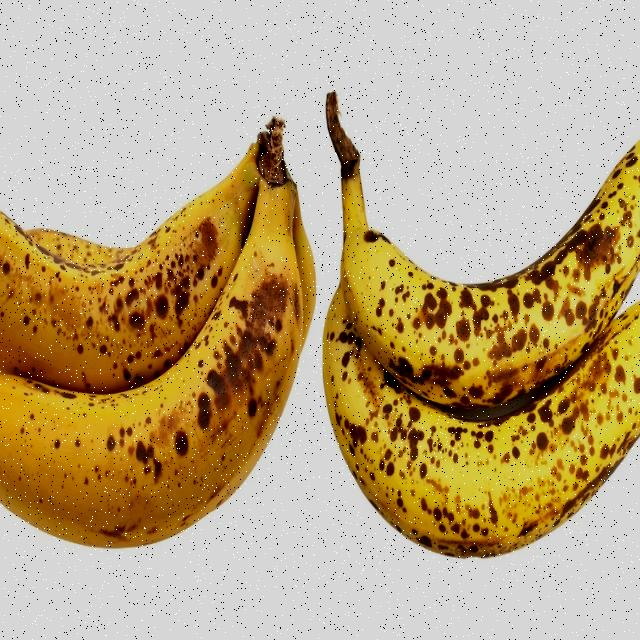Banana: (325, 92, 640, 559), (0, 119, 314, 551)
